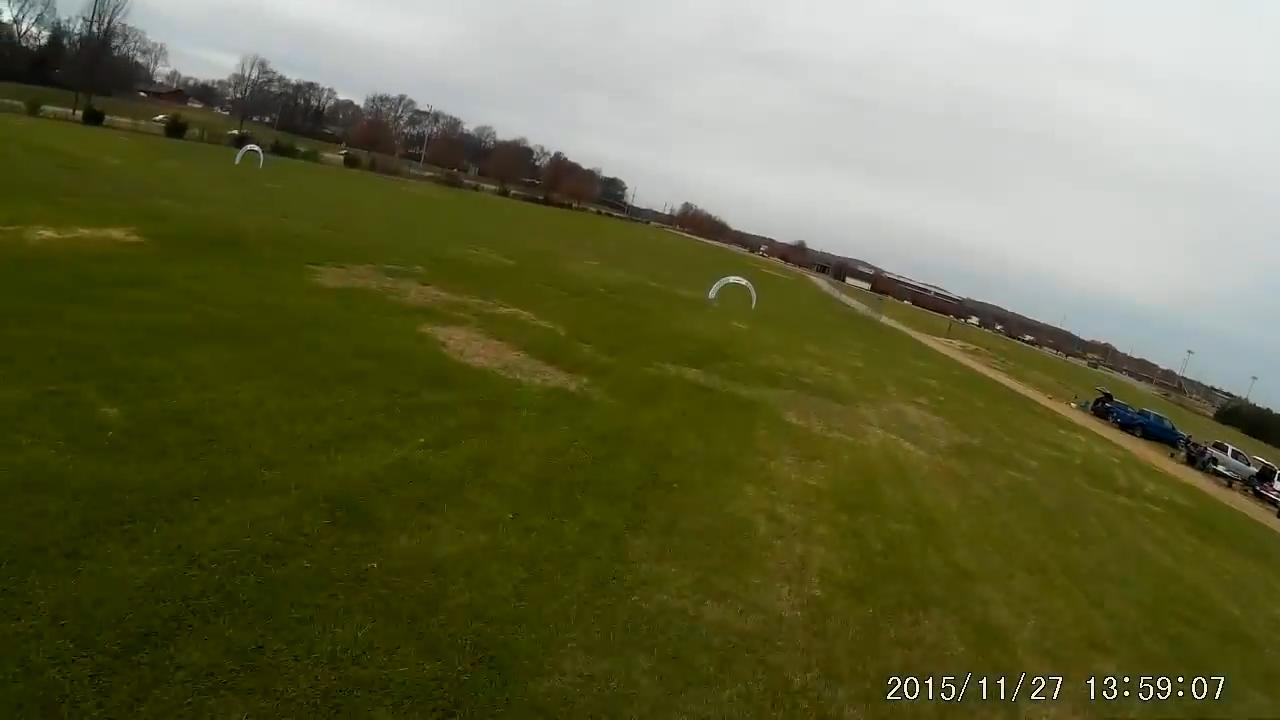gate: (704, 275, 757, 315)
